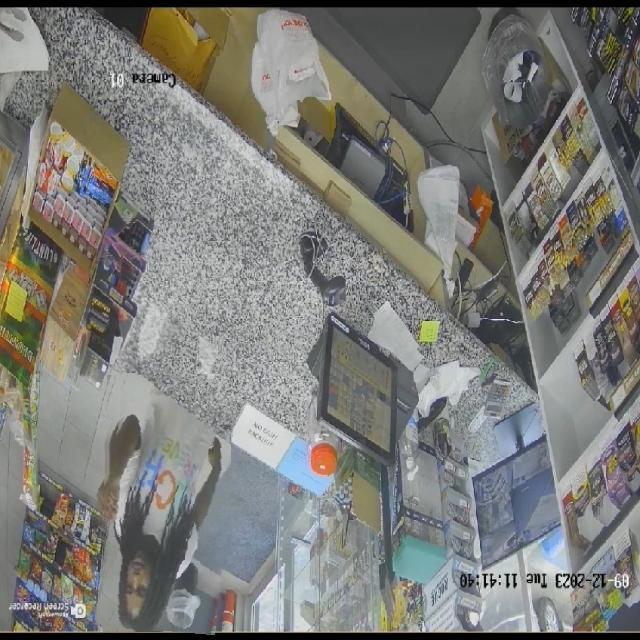normal: (101, 374, 231, 632)
